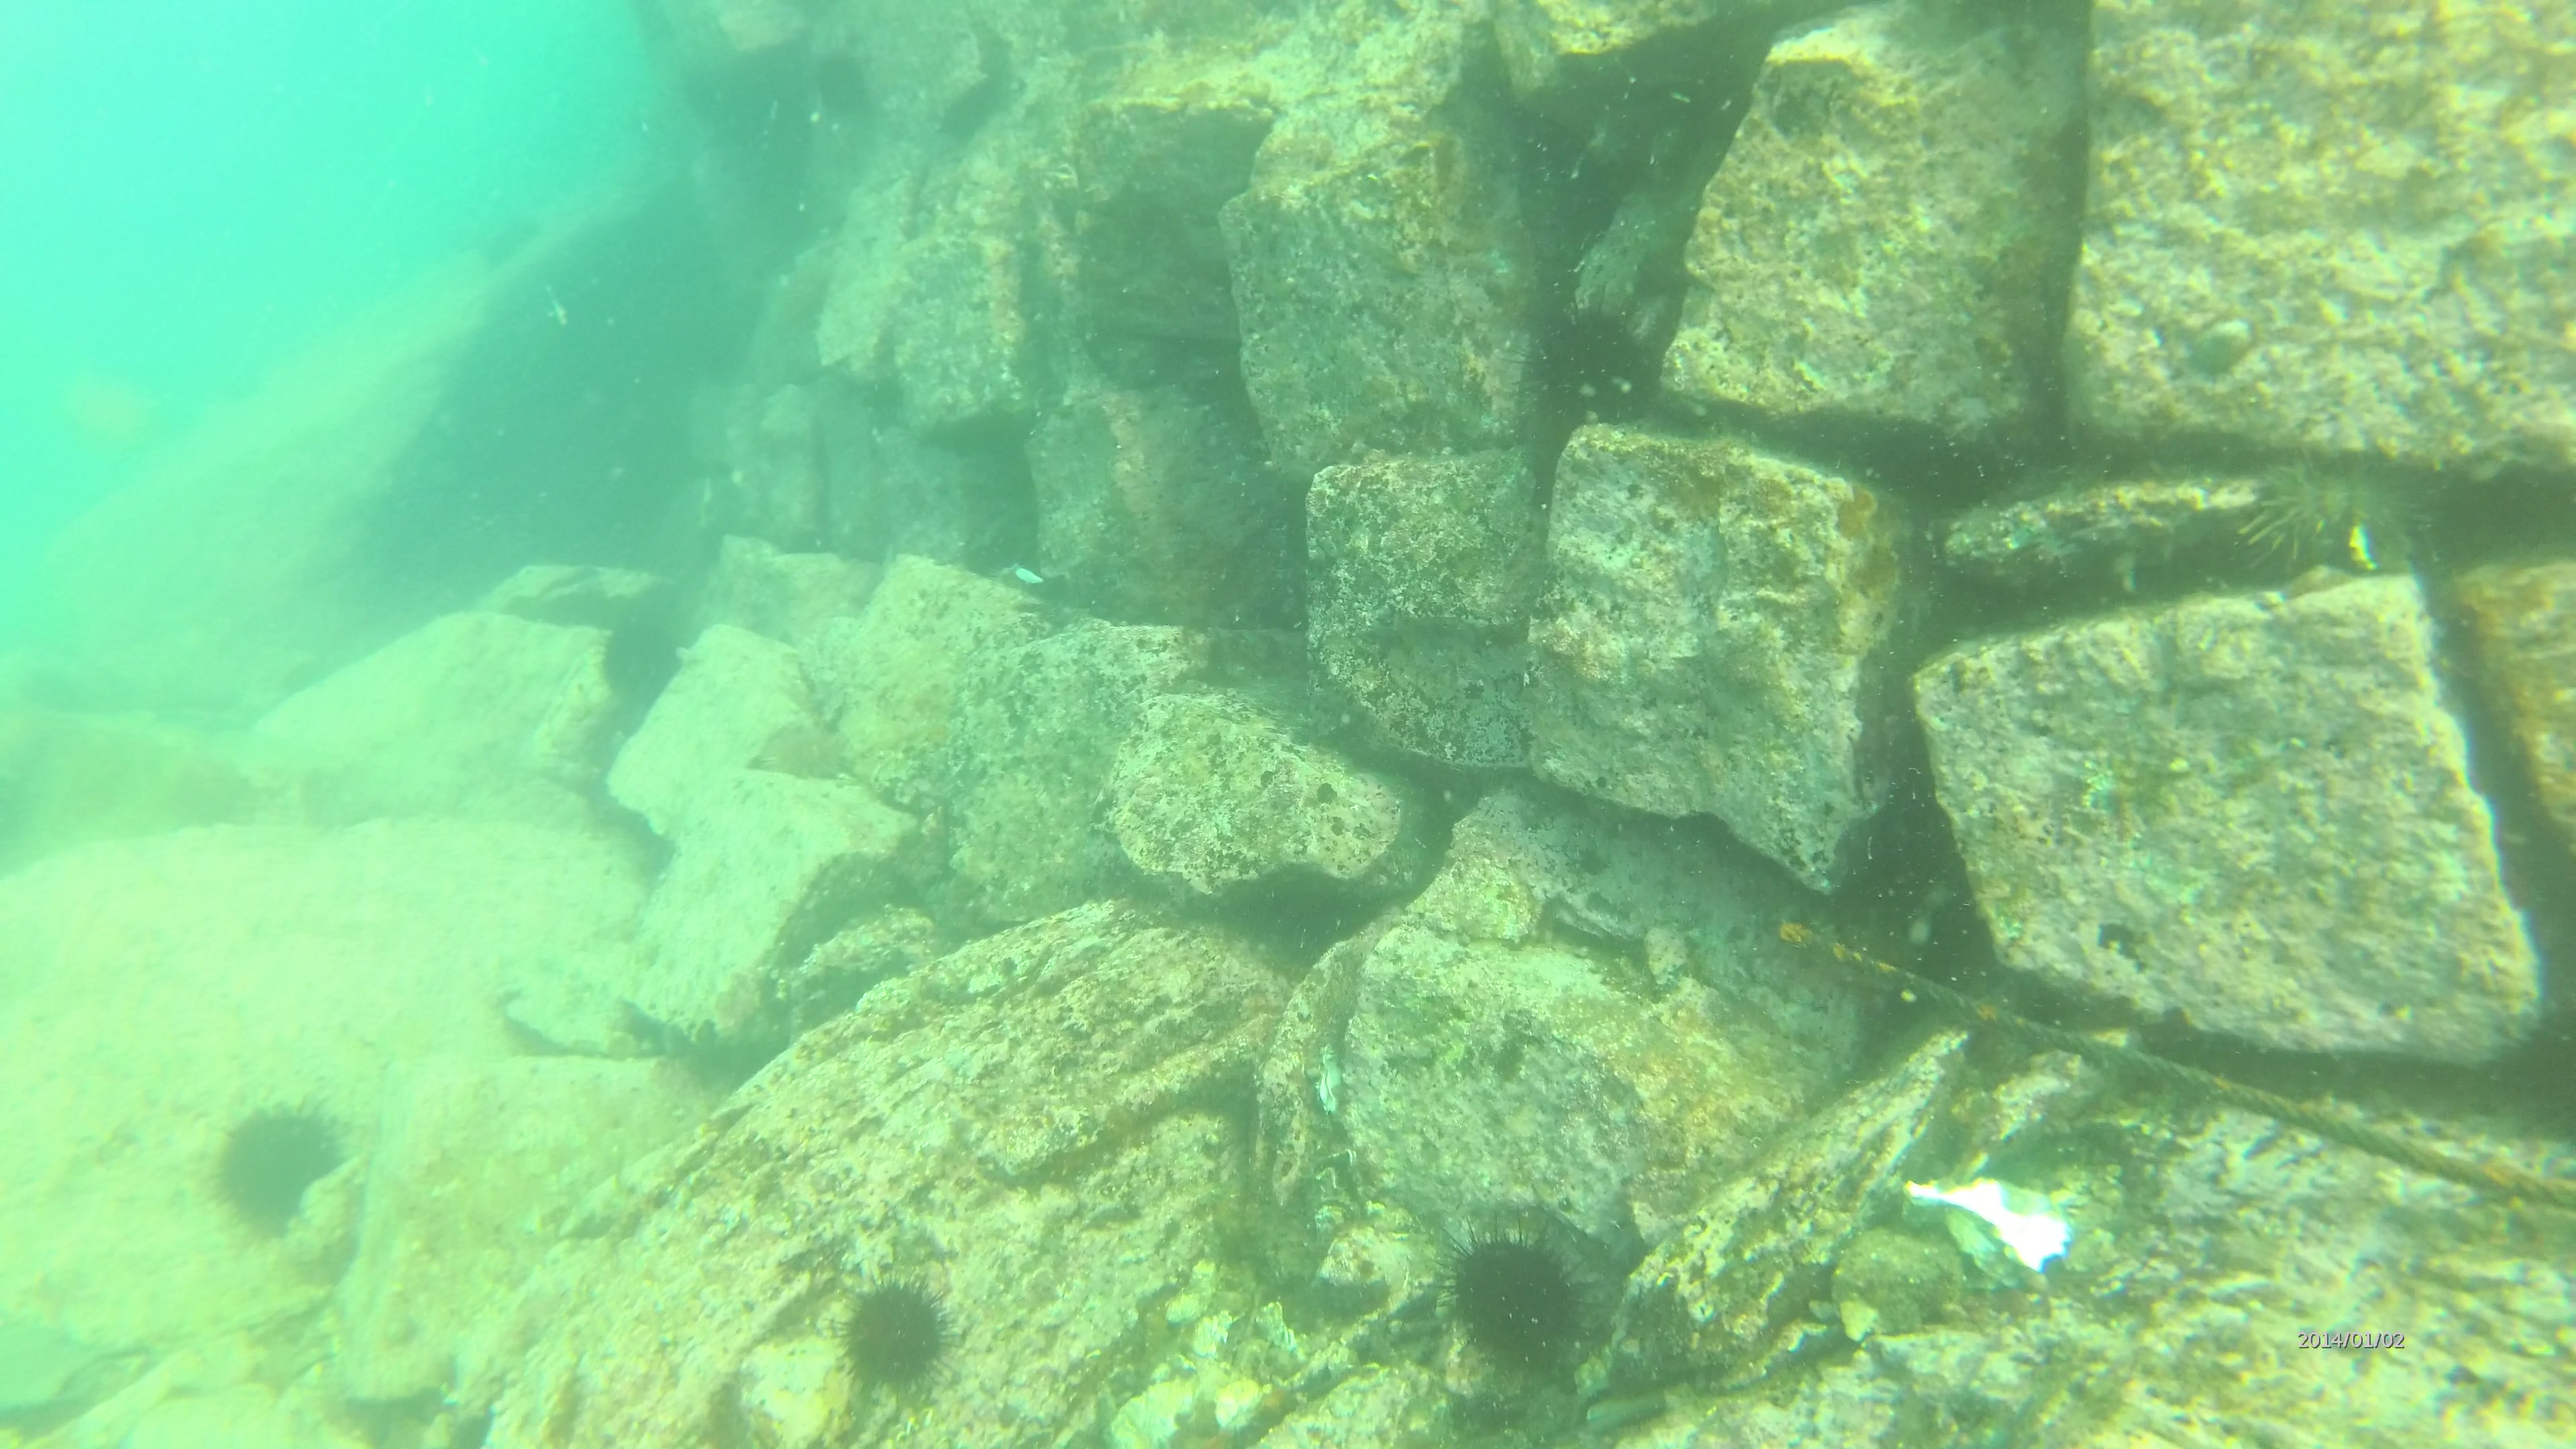echinus: (2243, 444, 2447, 582), (1440, 1221, 1599, 1378), (211, 1097, 359, 1231), (1523, 303, 1667, 432), (833, 1269, 961, 1394), (600, 610, 697, 718)
